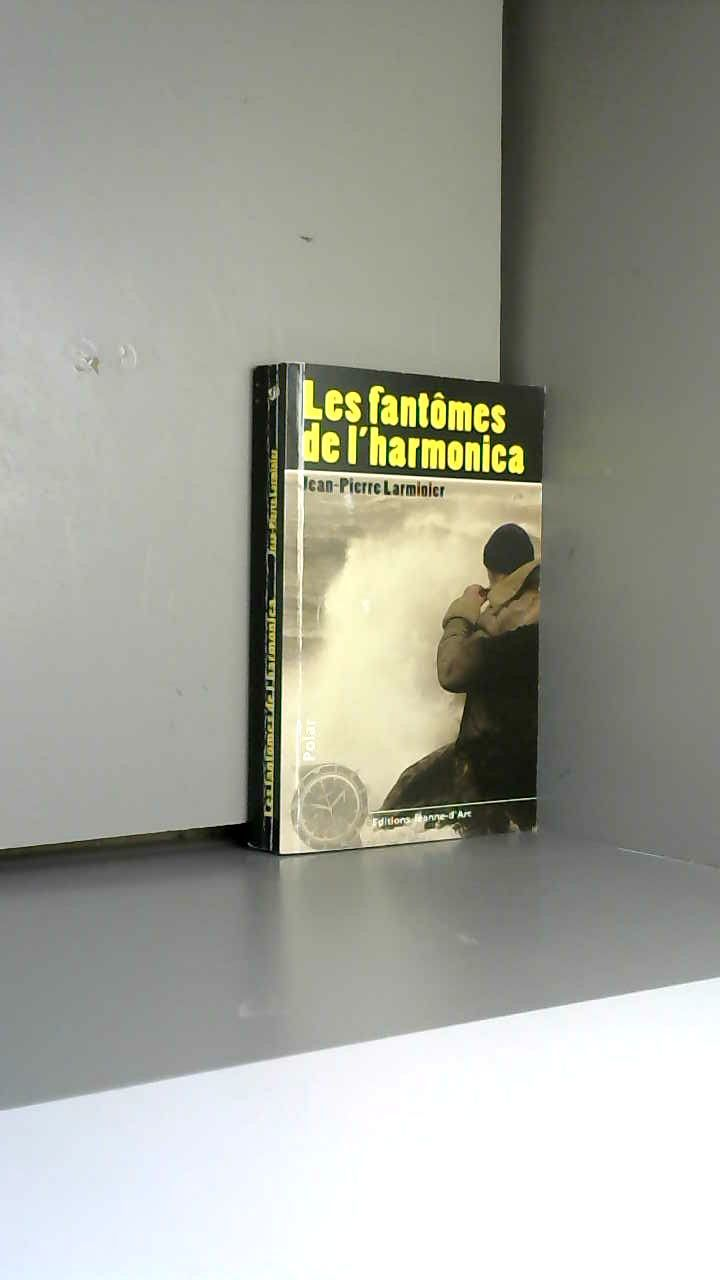book: (211, 326, 586, 887)
